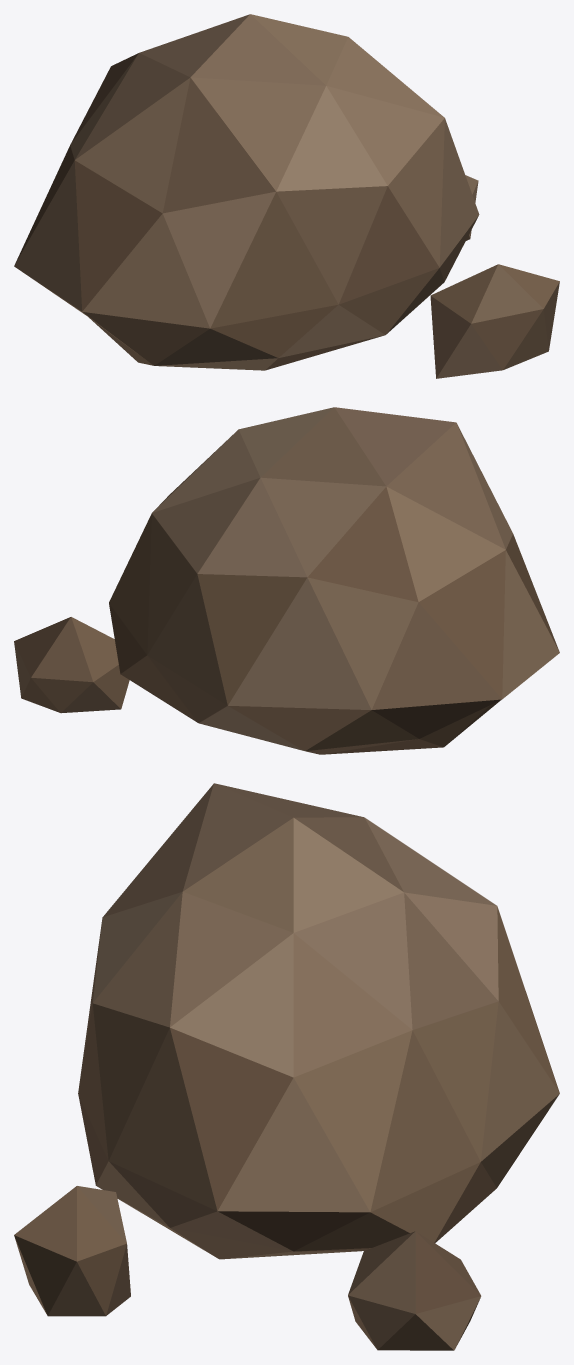
File: RockBrown.glb
3 renders of one model, top to bottom at view 1: azimuth 30°, elevation 25°; view 2: azimuth 150°, elevation 25°; view 3: azimuth 270°, elevation 25°, orthographic. The views are drawn at different scales.
Parts seen in each view (by area): view 1: Body; view 2: Body; view 3: Body.
Boxes of the visible parts, left/top/right/bottom form: Body: left=14, top=14, right=559, bottom=378; Body: left=14, top=407, right=559, bottom=754; Body: left=14, top=783, right=559, bottom=1350.
Size of the model in its own units: 5.97 by 3.86 by 4.79.
